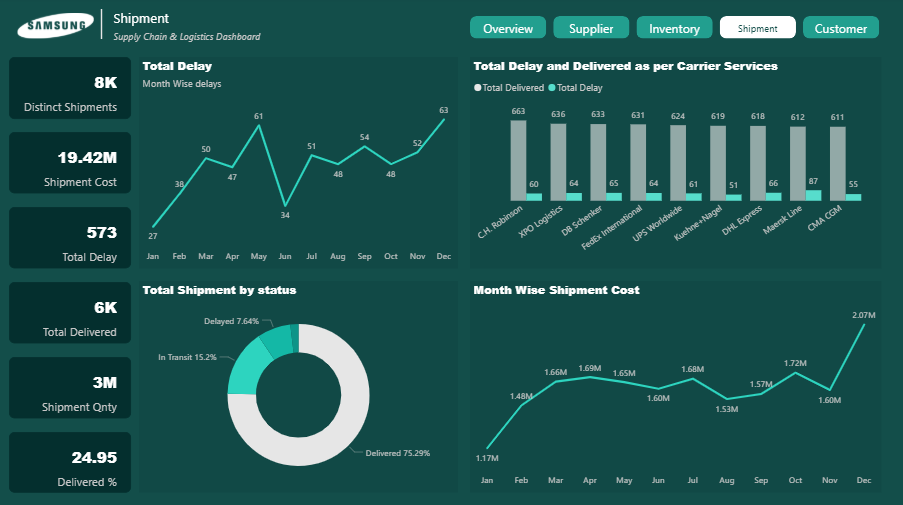

What the dashboard file says about the page in this screenshot:
{"tool":"powerbi","page":{"name":"Shipment","canvas":[1280,720],"ordinal":4},"visuals":[{"type":"textbox","title":"Shipment","box":[157.3,17,248,53.9],"z":0},{"type":"shape","box":[131.8,17,26.9,42.5],"z":1000},{"type":"cardVisual","fields":{"Data":["Measures Table.Total Shiped Cost"]},"box":[14.2,191.9,172.8,87],"z":2000},{"type":"cardVisual","fields":{"Data":["Measures Table.Total_Delay"]},"box":[14.2,298,172.8,87],"z":3000},{"type":"cardVisual","fields":{"Data":["Measures Table.Total_Delivered"]},"box":[14.2,404.1,172.8,87],"z":4000},{"type":"cardVisual","fields":{"Data":["Measures Table.Total_Shipment_Quantity"]},"box":[14.2,510.2,172.8,87],"z":5000},{"type":"cardVisual","fields":{"Data":["Measures Table.Delivered %"]},"box":[14.2,616.3,172.8,86.4],"z":6000},{"type":"cardVisual","fields":{"Data":["Measures Table.Total_Shipment"]},"box":[14.2,85,172.8,87.8],"z":7000},{"type":"image","box":[21.3,5.7,117.6,70.9],"z":8000},{"type":"lineChart","title":"Total Delay","fields":{"Category":["dim_date.Short_Month"],"Y":["Measures Table.Total_Delay"]},"box":[199.1,85.3,452.3,300.1],"z":9000},{"type":"clusteredColumnChart","title":"Total Delay and Delivered as per Carrier Services","fields":{"Y":["Measures Table.Total_Delivered","Measures Table.Total_Delay"],"Category":["fact_shipment.carrier"]},"box":[667,85.3,583.1,300.1],"z":10000},{"type":"lineChart","title":"Month Wise Shipment Cost","fields":{"Category":["dim_date.Short_Month"],"Y":["Measures Table.Total Shiped Cost"]},"box":[667,402.5,583.1,300.1],"z":11000},{"type":"donutChart","title":"Total Shipment by status","fields":{"Category":["fact_shipment.status"],"Y":["Measures Table.Total_Shipment"]},"box":[199.1,402.5,452.3,300.1],"z":12000},{"type":"pageNavigator","box":[667.1,27.1,582.9,32.9],"z":13000}]}

Visuals, with their boxes in screenshot pixels (x1, y1, x2, y2), scaled from the page's 1280x720 canvas onto the 903x505 screenshot:
"Shipment" textbox: x1=111 y1=12 x2=286 y2=50
shape: x1=93 y1=12 x2=112 y2=42
cardVisual - Measures Table.Total Shiped Cost: x1=10 y1=135 x2=132 y2=196
cardVisual - Measures Table.Total_Delay: x1=10 y1=209 x2=132 y2=270
cardVisual - Measures Table.Total_Delivered: x1=10 y1=283 x2=132 y2=344
cardVisual - Measures Table.Total_Shipment_Quantity: x1=10 y1=358 x2=132 y2=419
cardVisual - Measures Table.Delivered %: x1=10 y1=432 x2=132 y2=493
cardVisual - Measures Table.Total_Shipment: x1=10 y1=60 x2=132 y2=121
image: x1=15 y1=4 x2=98 y2=54
"Total Delay" lineChart: x1=140 y1=60 x2=460 y2=270
"Total Delay and Delivered as per Carrier Services" clusteredColumnChart: x1=471 y1=60 x2=882 y2=270
"Month Wise Shipment Cost" lineChart: x1=471 y1=282 x2=882 y2=493
"Total Shipment by status" donutChart: x1=140 y1=282 x2=460 y2=493
pageNavigator: x1=471 y1=19 x2=882 y2=42
